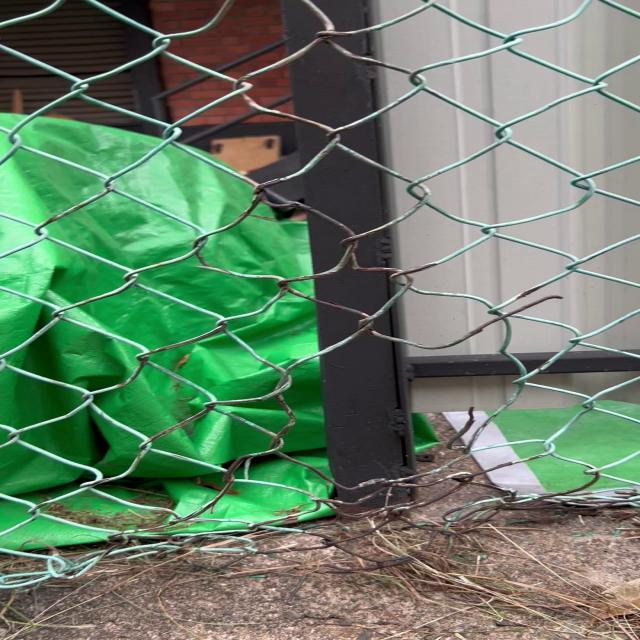fence line: (259, 325, 527, 489)
